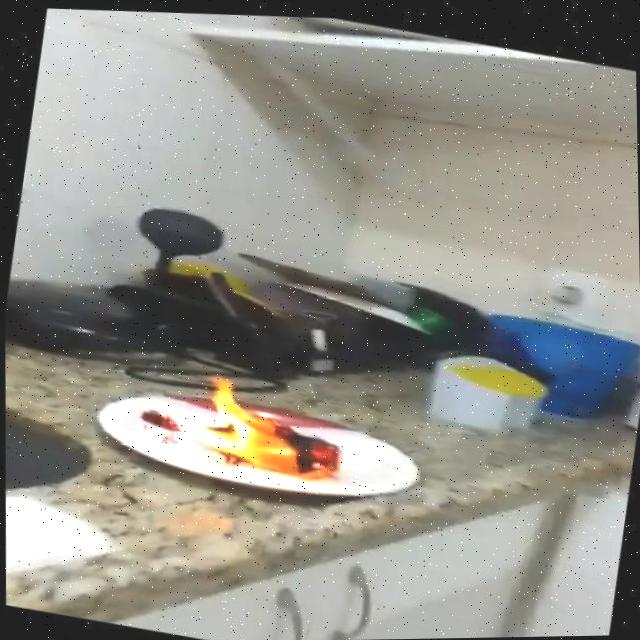fire: (181, 364, 351, 484)
